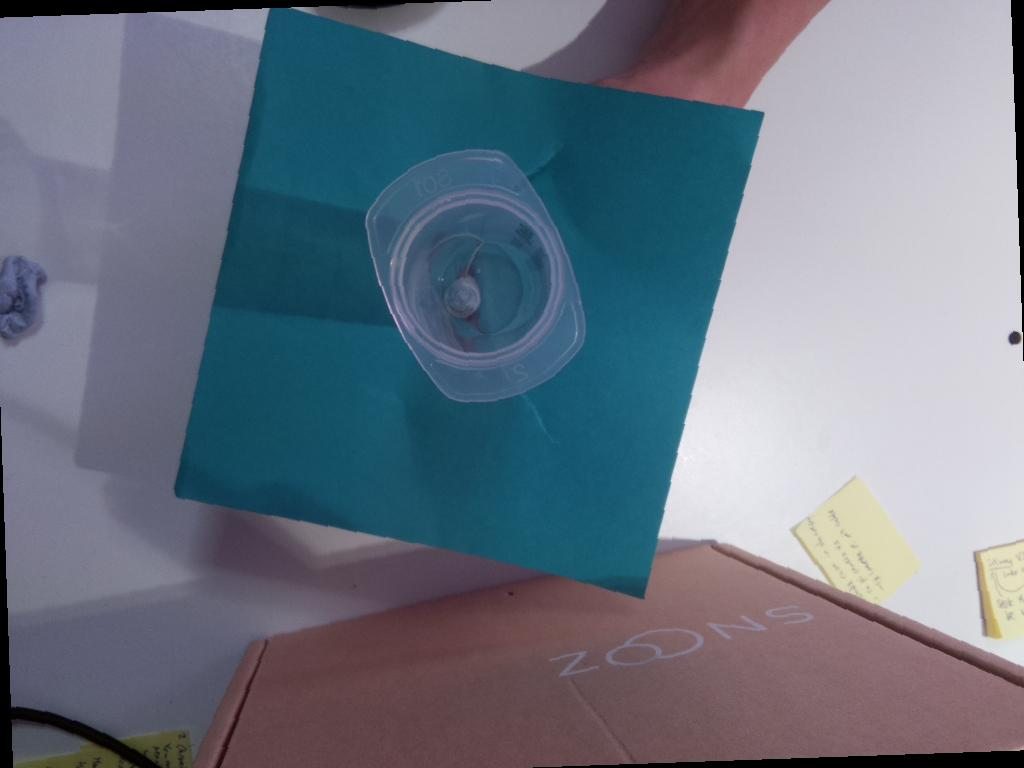clean: (364, 147, 588, 405)
